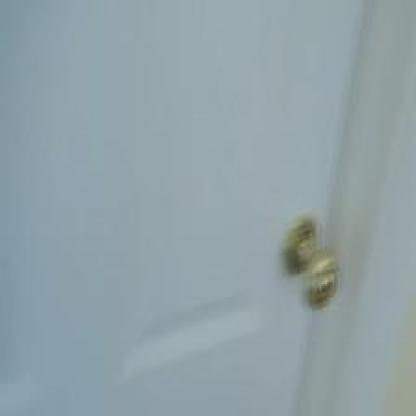other: (273, 218, 353, 306)
